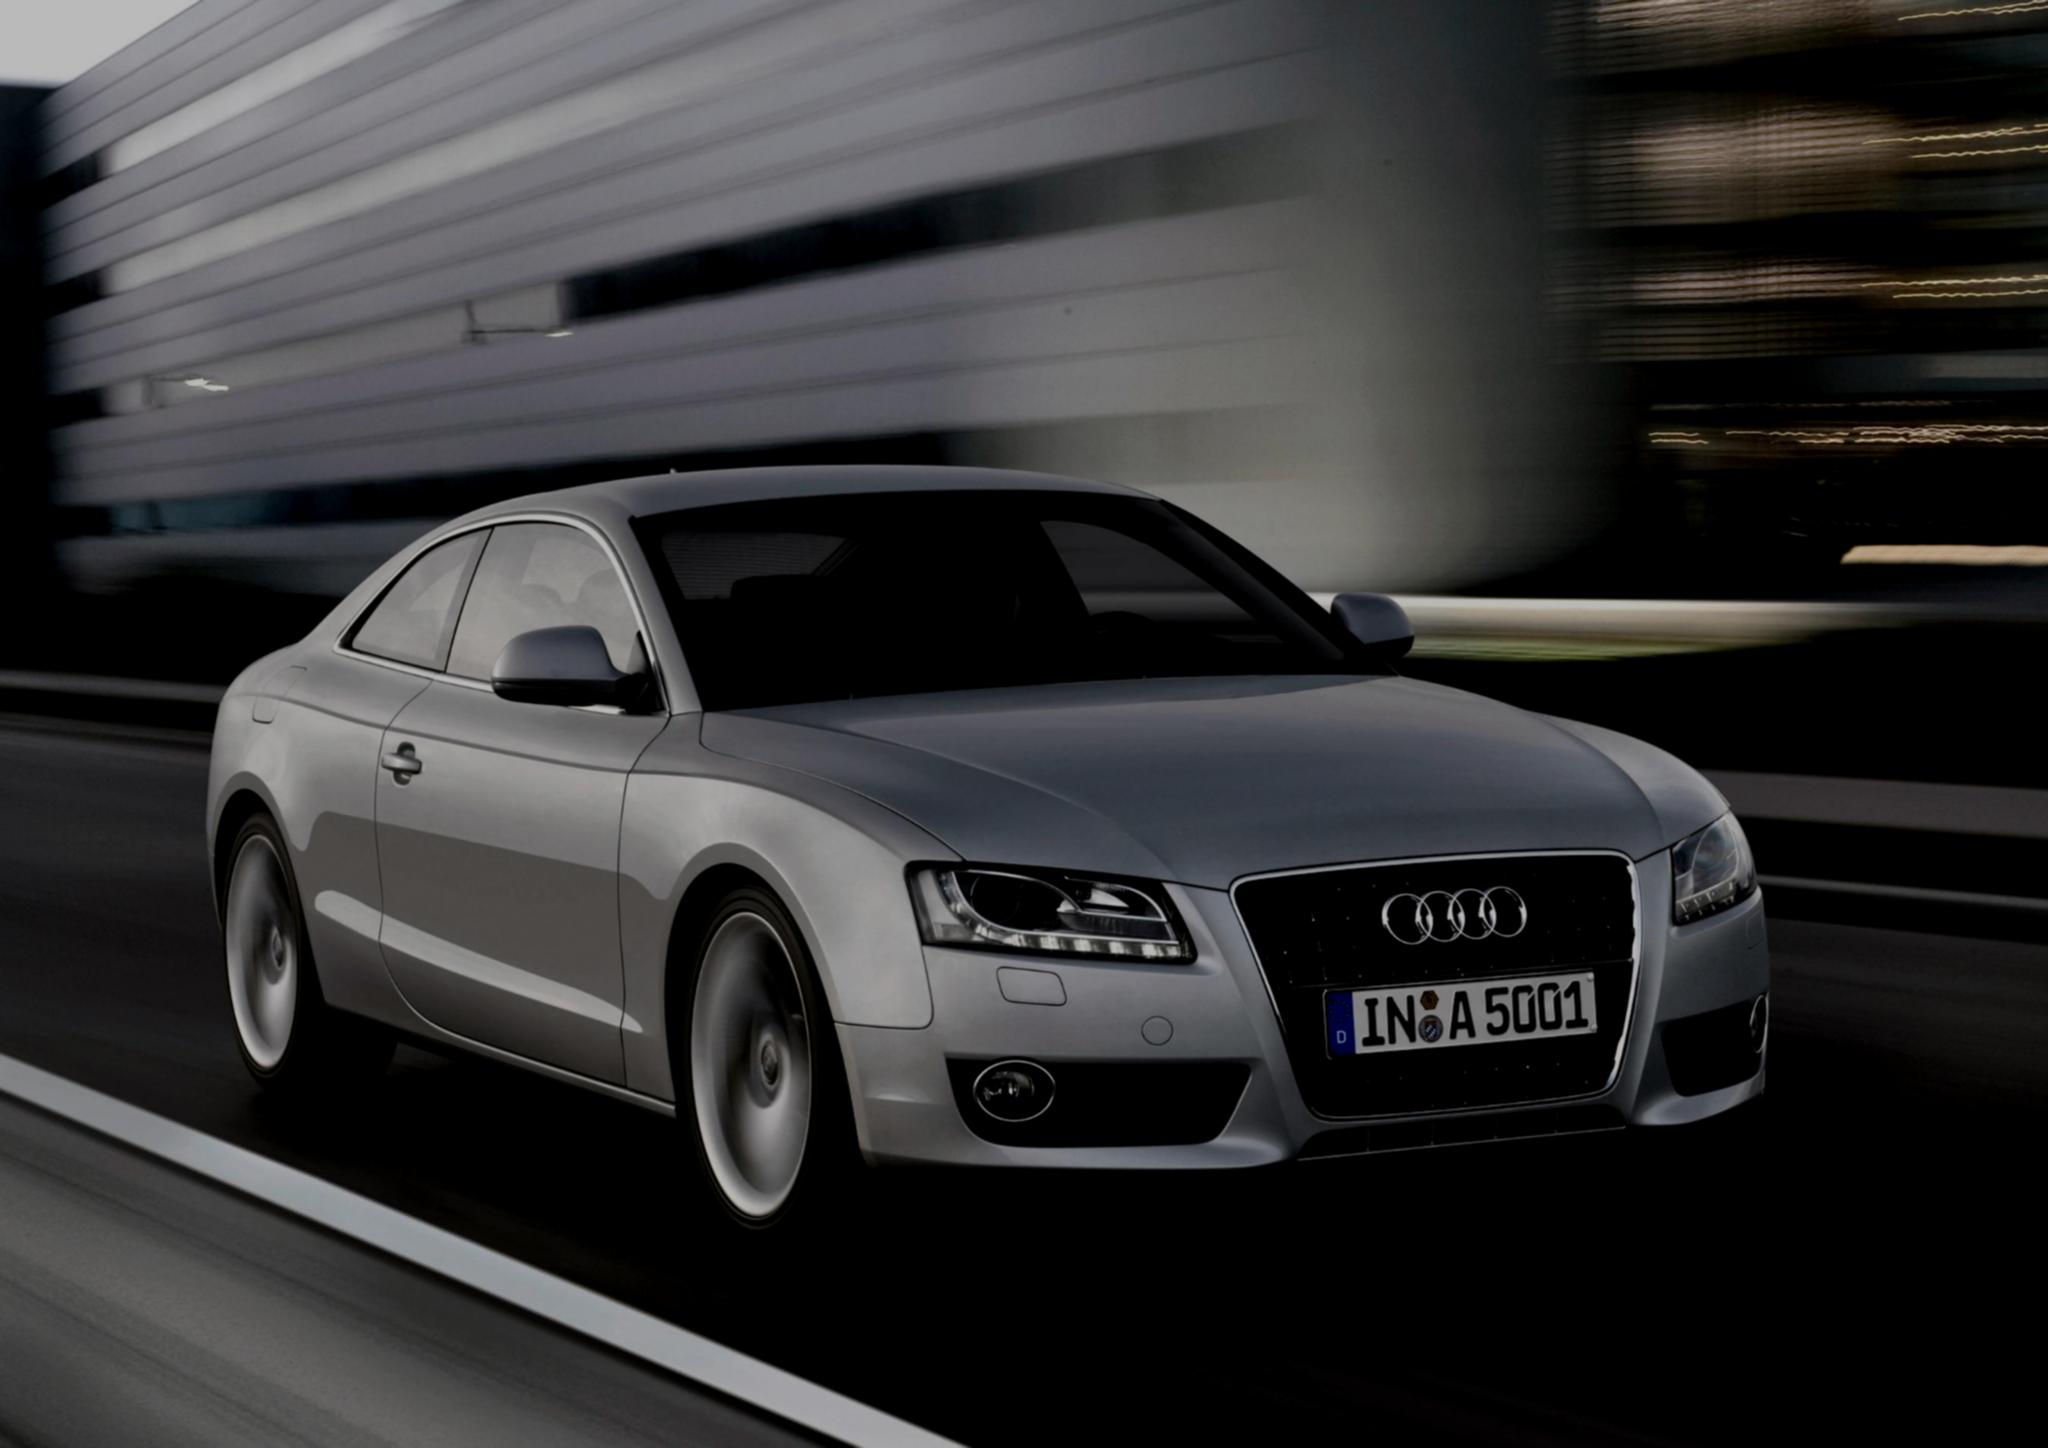Audi: (1348, 867, 1553, 970)
